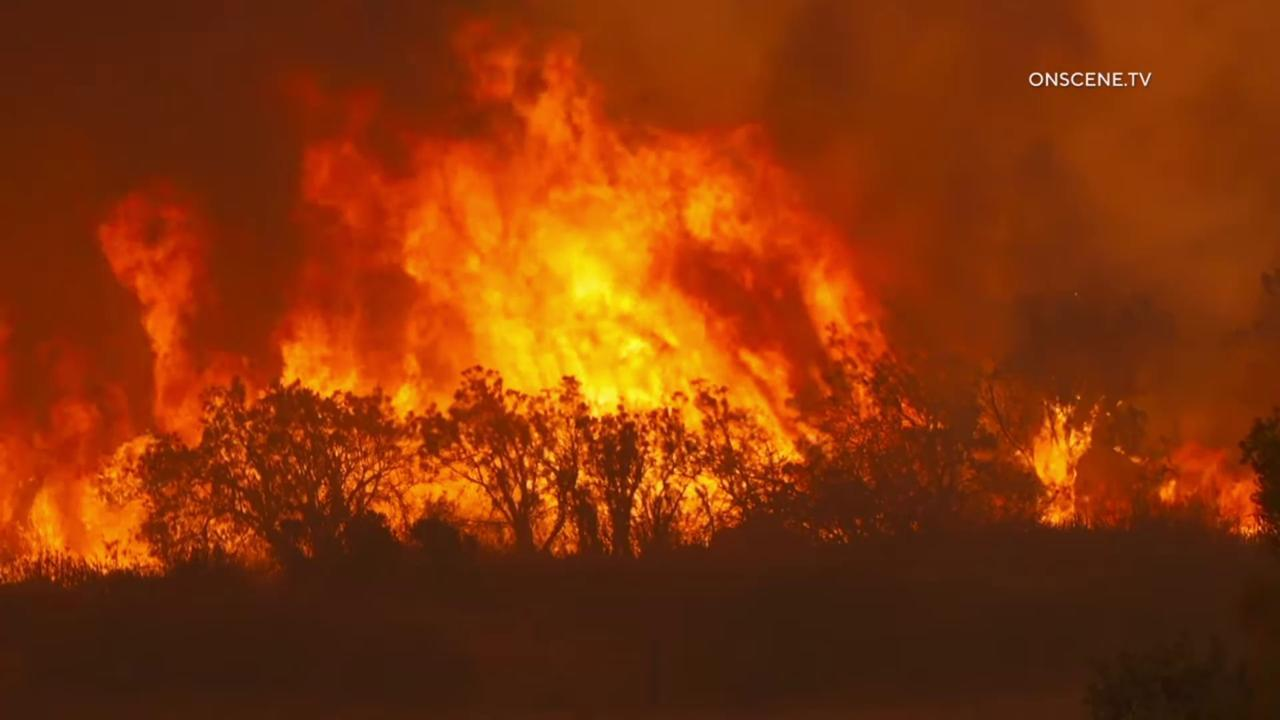fire: (0, 14, 950, 589), (1011, 394, 1280, 542)
smoke: (0, 0, 1280, 720)
